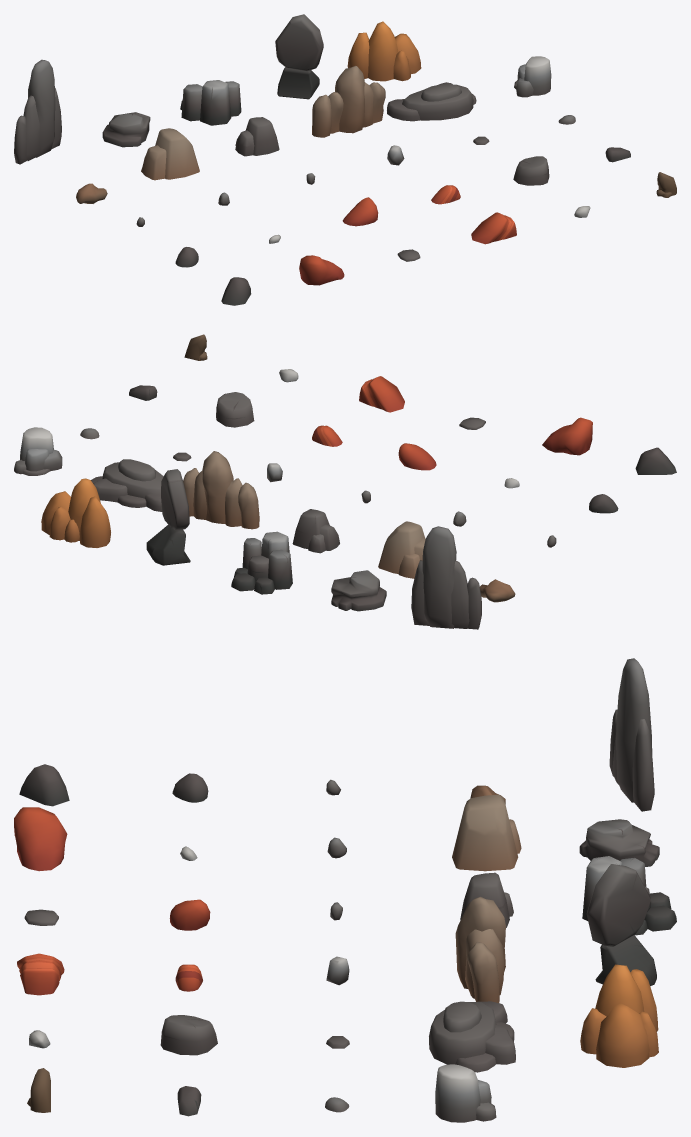
The model's file is Rocks_01.fbx.
The picture shows the model from 3 angles, top to bottom: view 1: azimuth 30°, elevation 25°; view 2: azimuth 150°, elevation 25°; view 3: azimuth 270°, elevation 25°; orthographic projection. The views are drawn at different scales.
Parts seen in each view (by area): view 1: Rock_Formation.003, Rock_Formation.008, Rock_Formation.013, Rock_Formation.016, Rock_Formation.004, Rock_Formation.012, Rock_Formation.001, Rock_Formation.010, Rock_Formation.002, Rock_Formation.005, Rock.002, Rock.004 (+4 smaller); view 2: Rock_Formation.008, Rock_Formation.003, Rock_Formation.016, Rock_Formation.012, Rock_Formation.004, Rock_Formation.013, Rock_Formation.001, Rock_Formation.010, Rock_Formation.005, Rock_Formation.002, Rock.002, Rock.004 (+7 smaller); view 3: Rock_Formation.016, Rock_Formation.013, Rock_Formation.008, Rock_Formation.004, Rock_Formation.003, Rock_Formation.001, Rock_Formation.005, Rock.002, Rock_Formation.010, Rock_Formation.012, Rock.011, Rock.004 (+5 smaller).
Boxes of the visible parts, box(x1,y1,x2,y2) form: Rock_Formation.003: box(312, 65, 385, 137); Rock_Formation.008: box(14, 59, 61, 164); Rock_Formation.013: box(275, 14, 323, 99); Rock_Formation.016: box(347, 21, 421, 81); Rock_Formation.004: box(387, 82, 476, 121); Rock_Formation.012: box(180, 80, 241, 125); Rock_Formation.001: box(141, 128, 199, 180); Rock_Formation.010: box(102, 112, 150, 147); Rock_Formation.002: box(235, 117, 279, 156); Rock_Formation.005: box(514, 56, 551, 97); Rock.002: box(299, 255, 344, 285); Rock.004: box(471, 212, 516, 244); Rock_Formation.008: box(411, 526, 481, 629); Rock_Formation.003: box(183, 451, 259, 529); Rock_Formation.016: box(41, 478, 110, 547); Rock_Formation.012: box(231, 531, 292, 594); Rock_Formation.004: box(91, 459, 163, 511); Rock_Formation.013: box(146, 469, 190, 565); Rock_Formation.001: box(378, 521, 425, 578); Rock_Formation.010: box(331, 570, 386, 611); Rock_Formation.005: box(14, 427, 62, 475); Rock_Formation.002: box(292, 509, 339, 553); Rock.002: box(542, 417, 592, 455); Rock.004: box(359, 376, 404, 412); Rock_Formation.016: box(580, 964, 658, 1067); Rock_Formation.013: box(586, 864, 656, 985); Rock_Formation.008: box(609, 658, 654, 811); Rock_Formation.004: box(429, 1001, 515, 1072); Rock_Formation.003: box(455, 896, 505, 1002); Rock_Formation.001: box(452, 794, 521, 871); Rock_Formation.005: box(435, 1064, 496, 1122); Rock.002: box(14, 807, 67, 871); Rock_Formation.010: box(579, 819, 659, 866); Rock_Formation.012: box(582, 856, 676, 935); Rock.011: box(160, 1015, 217, 1055); Rock.004: box(17, 953, 64, 995).
Bounding box in the file's own units: 3276 × 679 × 2623.
